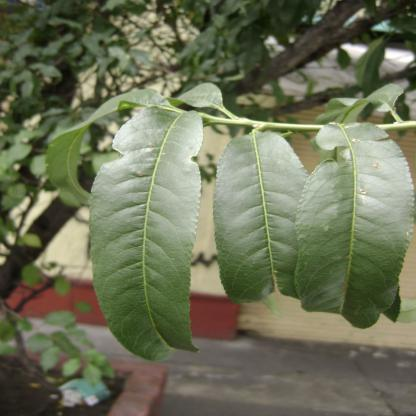Peach leaf: (84, 158, 198, 346), (214, 127, 307, 274)
